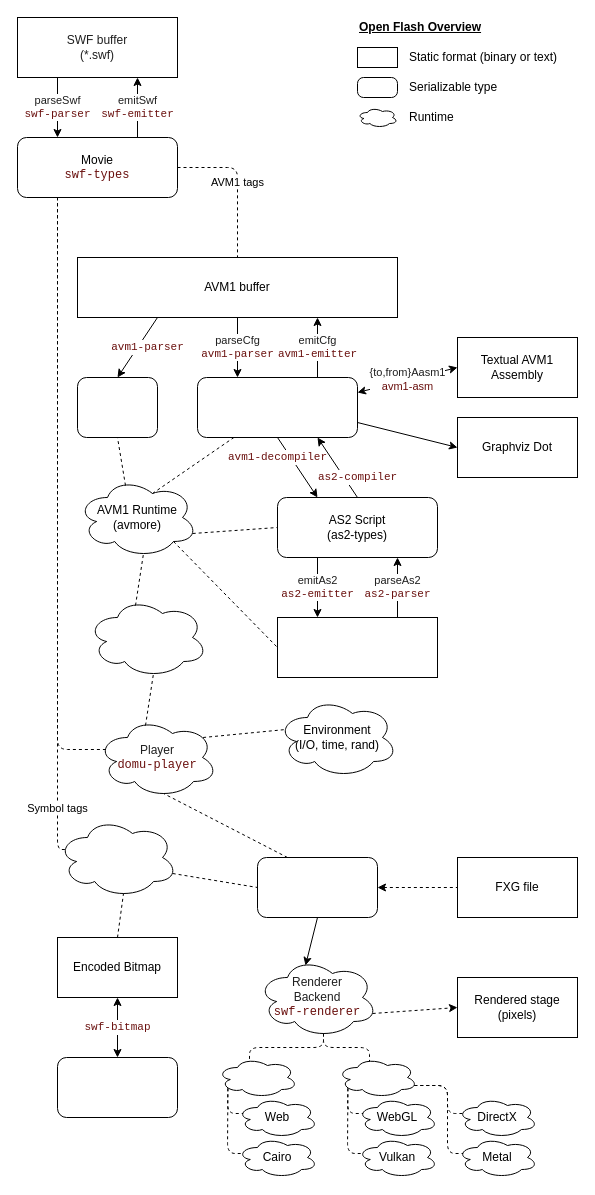
Some shapes in this 595 by 1195 pixel diagram are drawn without their labels. The shapes that lost their labels are listed below. From the top down, each one's centre as x and y in pixels, then its label:
At (x=117, y=407): "raw Action (avm1-types)".
At (x=277, y=407): "AVM1 Control Flow Graph (avm1-types)".
At (x=147, y=637): "Host bindings".
At (x=357, y=647): "ActionScript 2 SourceText".
At (x=117, y=857): "Symbol Library".
At (x=317, y=887): "Stage swf-renderer".
At (x=117, y=1087): "Decoded bitmap (pixels)".
At (x=257, y=1077): "Canvas".
At (x=377, y=1077): "gfx-hal".
